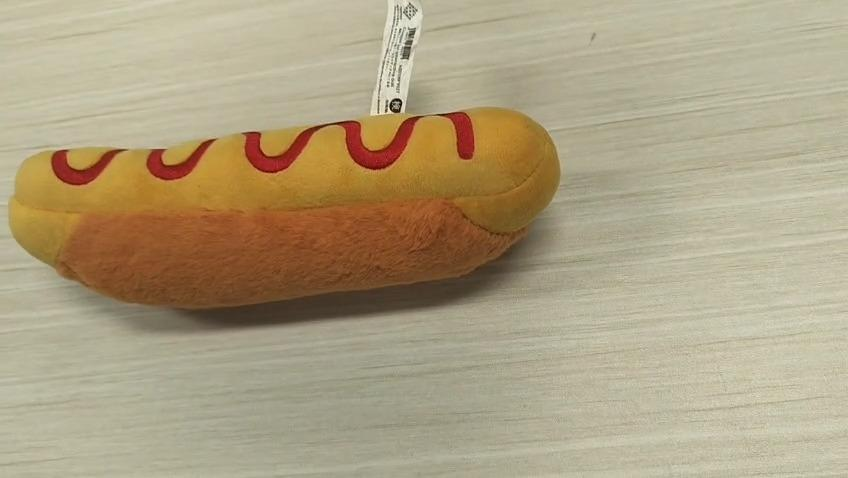hotdog: (8, 104, 561, 310)
